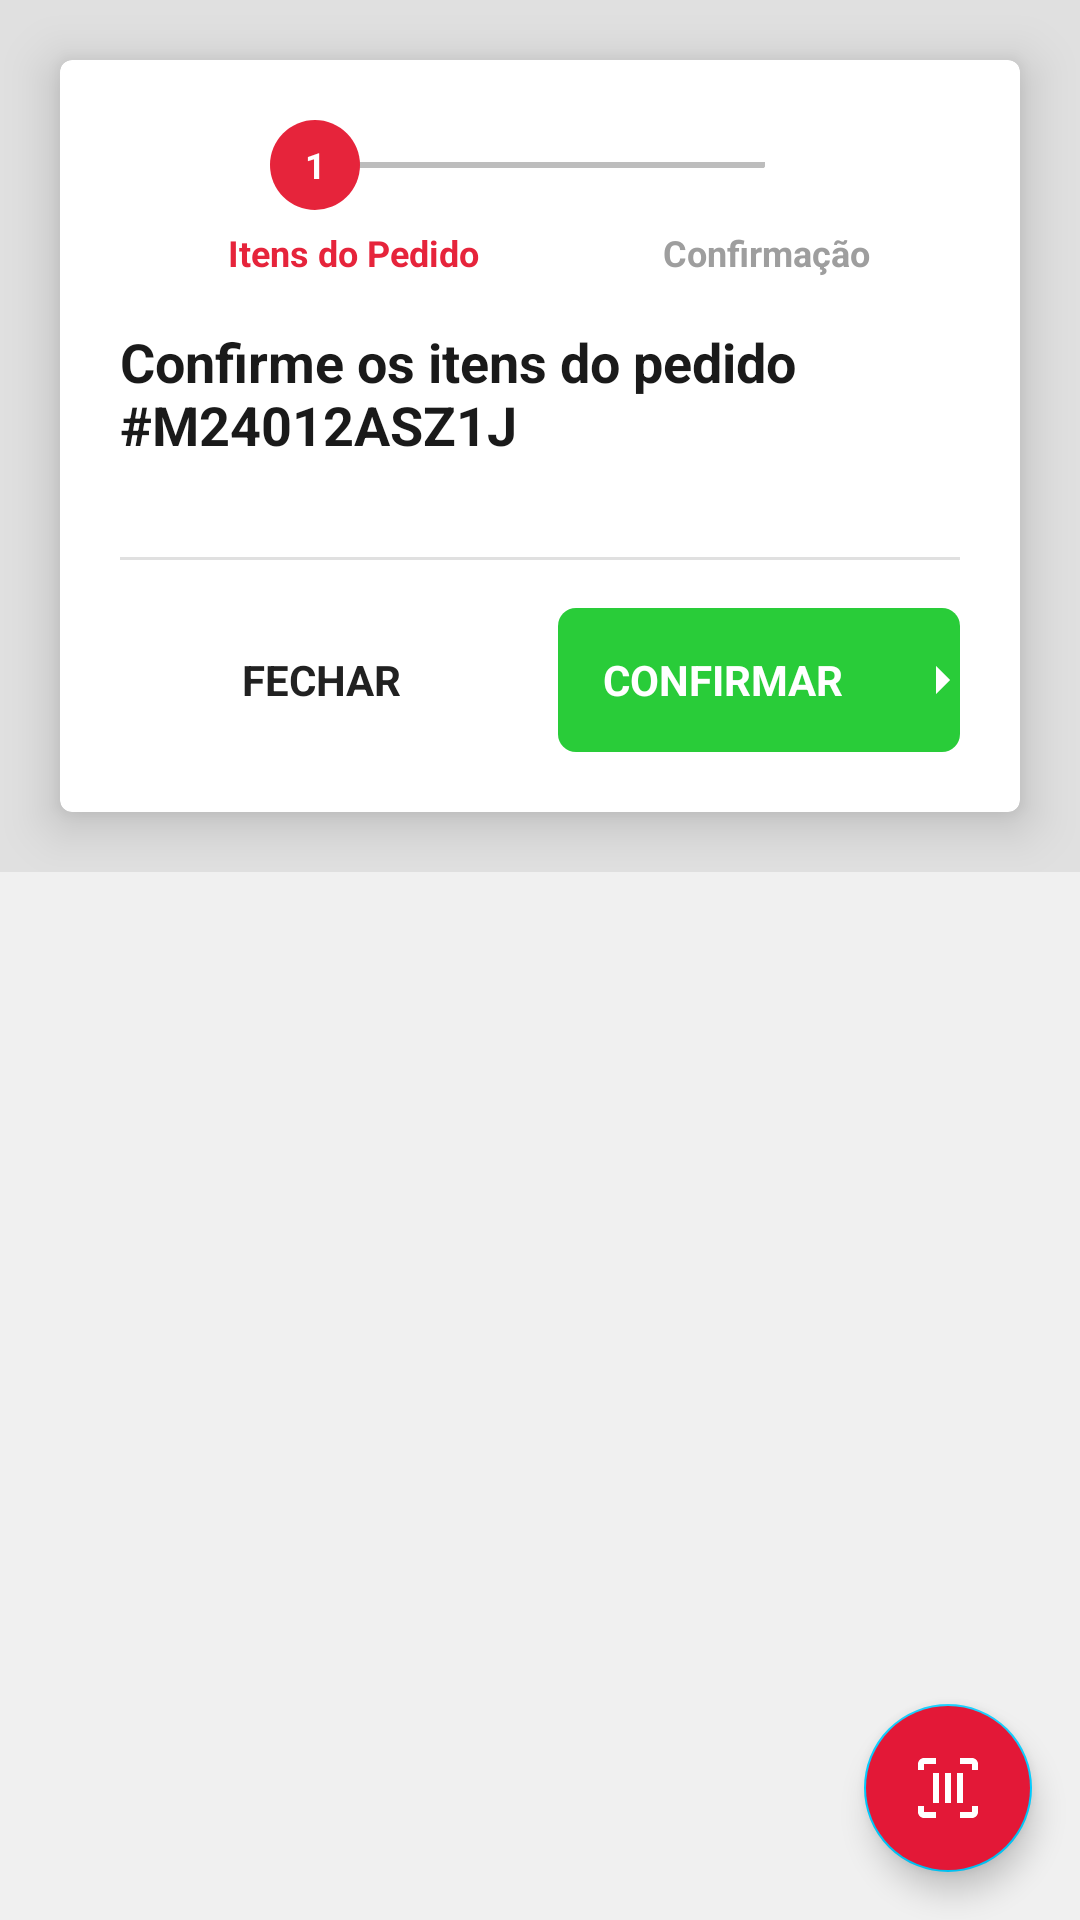

Icon bounding boxes for this 1080px×1920px phone screenshot, format (x1, y1, x2, y2):
Escanear IMEI: (864, 1704, 1032, 1872)
